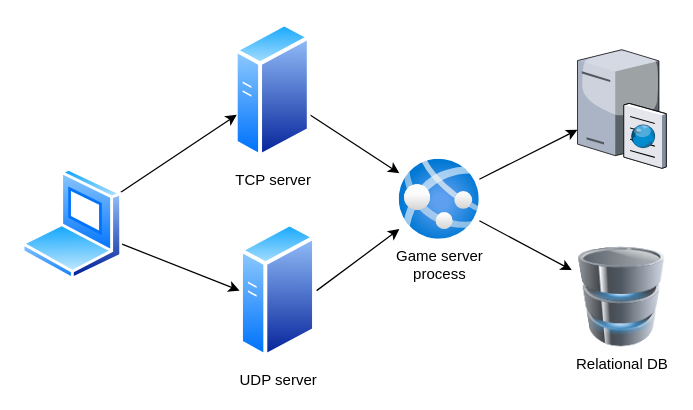
Image size: 693x410. Some labels were removed from this diagram. The shapes that lost their labels are listed below. From the top down, each one's centre as x and y in pixels, then its label:
At point (621, 107): "FTP server".
At point (71, 224): "Game client".
